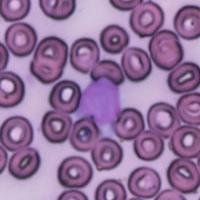L: (78, 76, 123, 126)
